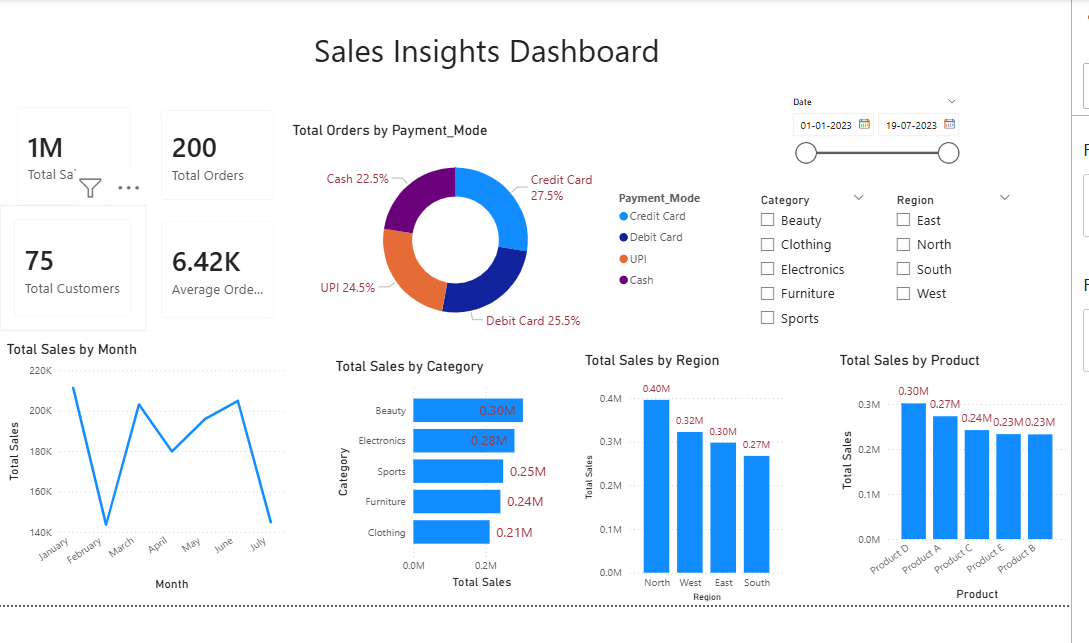

Layout of this report page (visuals, bound fields, positions):
{"tool":"powerbi","page":{"name":"Page 1","canvas":[1280,720],"ordinal":0},"visuals":[{"type":"cardVisual","fields":{"Data":["Sheet1.Total Sales"]},"box":[10.3,112.1,170.7,146.6],"z":0},{"type":"cardVisual","fields":{"Data":["Sheet1.Total Orders"]},"box":[181,115.5,169,141.4],"z":1},{"type":"cardVisual","fields":{"Data":["Sheet1.Total Customers"]},"box":[6.9,244.8,174.1,150],"z":2},{"type":"cardVisual","fields":{"Data":["Sheet1.Average Order Value"]},"box":[181,246.6,169,150],"z":3},{"type":"lineChart","fields":{"Y":["Sheet1.Total Sales"],"Category":["Sheet1.Date.Variation.Date Hierarchy.Month"]},"box":[10.3,405.2,339.7,301.7],"z":4},{"type":"barChart","fields":{"Y":["Sheet1.Total Sales"],"Category":["Sheet1.Category"]},"box":[401.7,425.9,279.3,279.3],"z":5},{"type":"columnChart","fields":{"Category":["Sheet1.Region"],"Y":["Sheet1.Total Sales"]},"box":[696.6,419,246.6,301.7],"z":6},{"type":"columnChart","fields":{"Category":["Sheet1.Product"],"Y":["Sheet1.Total Sales"]},"box":[1000,419,279,301],"z":7},{"type":"donutChart","fields":{"Category":["Sheet1.Payment_Mode"],"Y":["Sheet1.Total Orders"]},"box":[350,146.6,512.1,258.6],"z":8},{"type":"slicer","fields":{"Values":["Sheet1.Category"]},"box":[898.3,224.1,148.3,196.6],"z":9},{"type":"slicer","fields":{"Values":["Sheet1.Region"]},"box":[1060.3,224.1,160.3,146.6],"z":10},{"type":"slicer","fields":{"Values":["Sheet1.Date"]},"box":[936.2,112.1,219,96.6],"z":11},{"type":"textbox","box":[362.1,29.3,446.6,63.8],"z":12}]}

Visuals, with their boxes on the page's 1280x720 design canvas (x1, y1, x2, y2). These are canvas units, not pixel positions in the 1089x643 screenshot, which may show the page scaled, cropped or inside an application window:
cardVisual - Sheet1.Total Sales: <bbox>10, 112, 181, 259</bbox>
cardVisual - Sheet1.Total Orders: <bbox>181, 116, 350, 257</bbox>
cardVisual - Sheet1.Total Customers: <bbox>7, 245, 181, 395</bbox>
cardVisual - Sheet1.Average Order Value: <bbox>181, 247, 350, 397</bbox>
lineChart - Sheet1.Total Sales x Sheet1.Date.Variation.Date Hierarchy.Month: <bbox>10, 405, 350, 707</bbox>
barChart - Sheet1.Total Sales x Sheet1.Category: <bbox>402, 426, 681, 705</bbox>
columnChart - Sheet1.Region x Sheet1.Total Sales: <bbox>697, 419, 943, 721</bbox>
columnChart - Sheet1.Product x Sheet1.Total Sales: <bbox>1000, 419, 1279, 720</bbox>
donutChart - Sheet1.Payment_Mode x Sheet1.Total Orders: <bbox>350, 147, 862, 405</bbox>
slicer - Sheet1.Category: <bbox>898, 224, 1047, 421</bbox>
slicer - Sheet1.Region: <bbox>1060, 224, 1221, 371</bbox>
slicer - Sheet1.Date: <bbox>936, 112, 1155, 209</bbox>
textbox: <bbox>362, 29, 809, 93</bbox>
